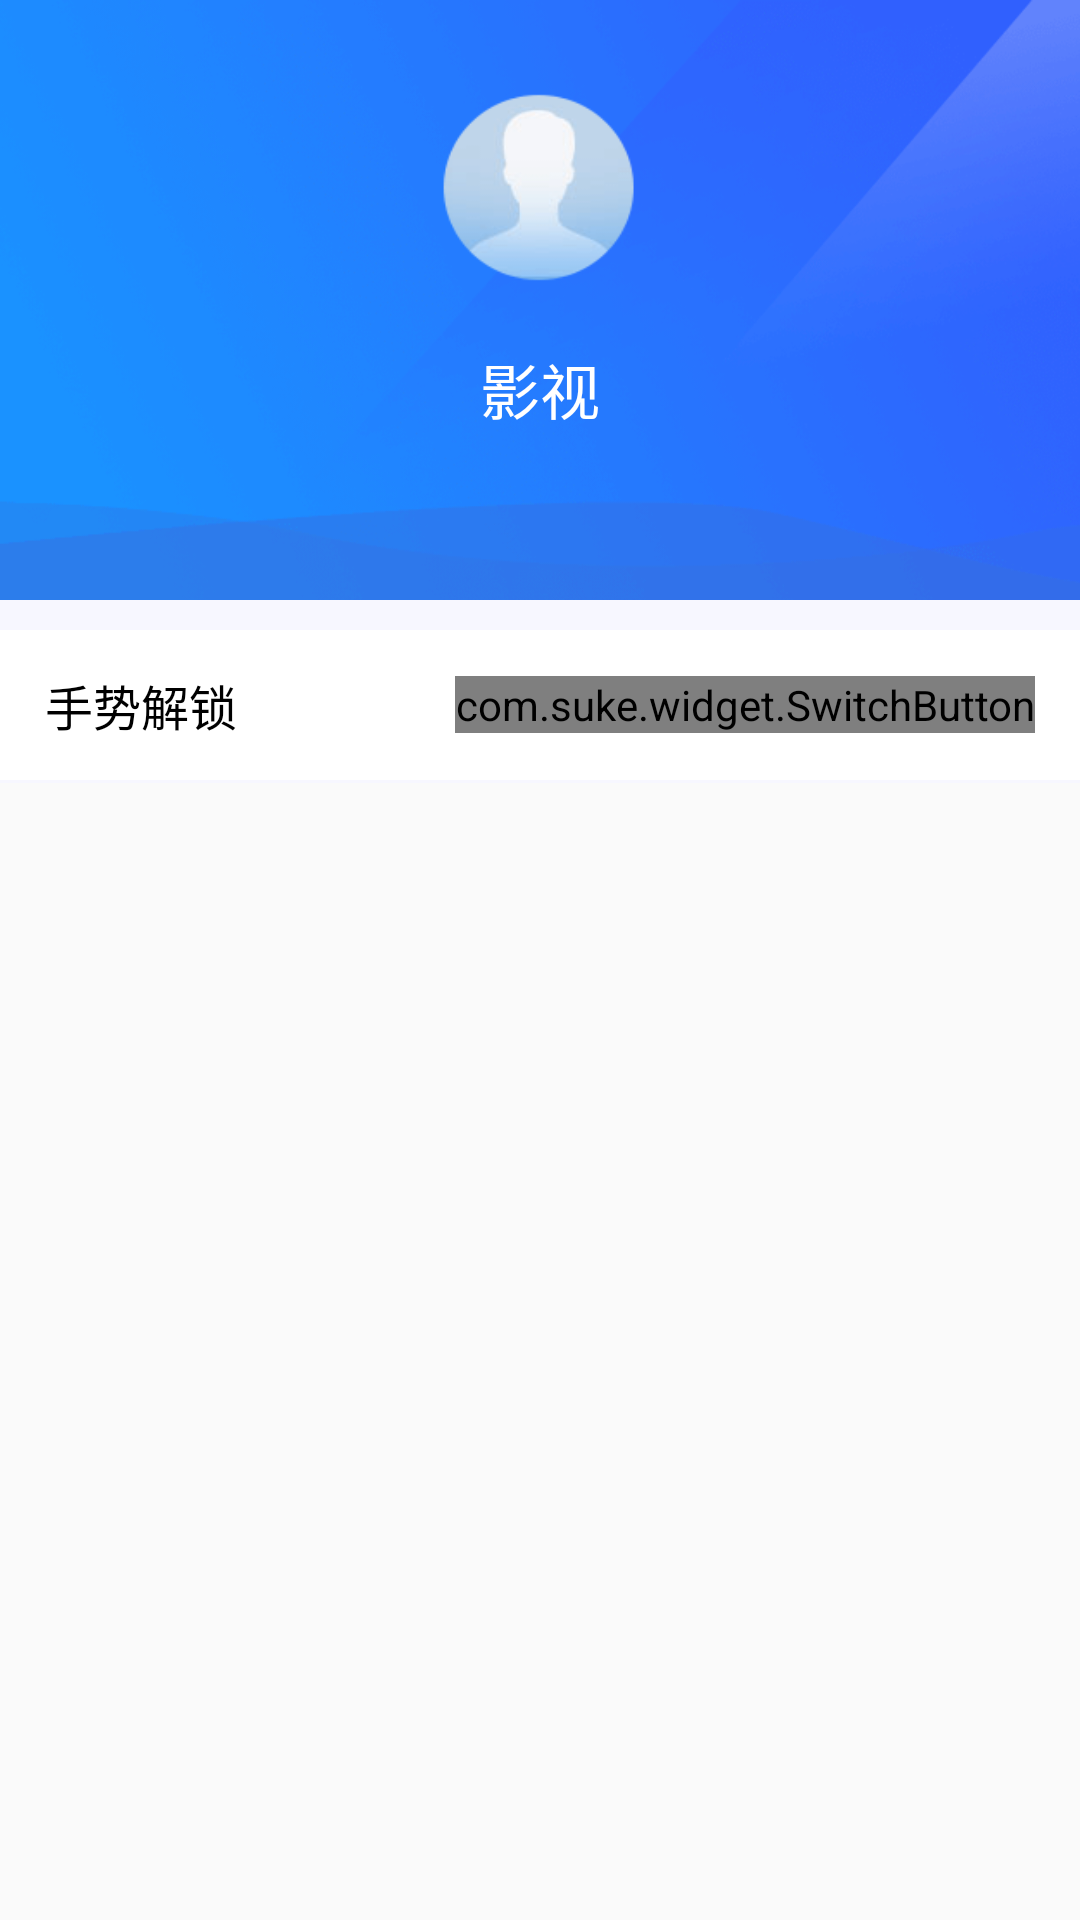

Screen size 1080x1920. Icon name, then its center in pixels as (x,y):
user pictures: (538,187)
